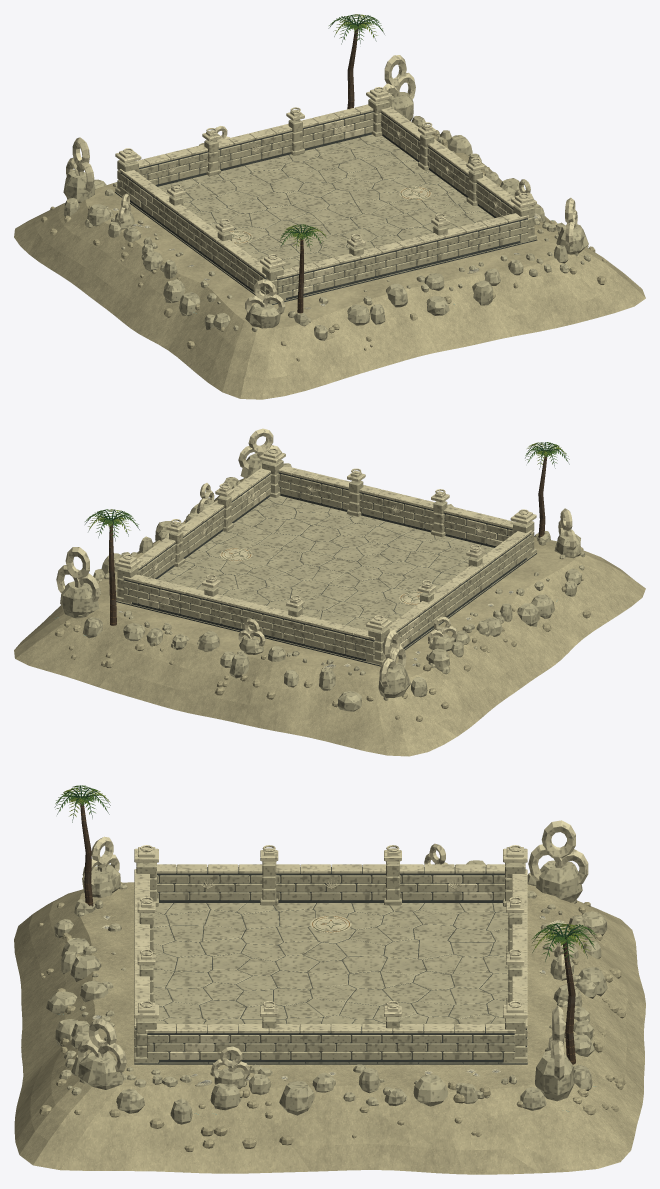
File: realm_06.fbx
3 renders of one model, top to bottom at view 1: azimuth 30°, elevation 25°; view 2: azimuth 150°, elevation 25°; view 3: azimuth 270°, elevation 25°, orthographic. The views are drawn at different scales.
Visible parts, largest first — view 1: realm_06__shore, realm_06__closed_walls, realm_06__combat_floor, realm_06__biome_dressing; view 2: realm_06__shore, realm_06__closed_walls, realm_06__combat_floor, realm_06__biome_dressing; view 3: realm_06__shore, realm_06__combat_floor, realm_06__closed_walls, realm_06__biome_dressing.
Boxes of the visible parts, x1,y1,x2,y2 form: realm_06__shore: (14, 116, 645, 399); realm_06__closed_walls: (115, 87, 536, 303); realm_06__combat_floor: (115, 134, 537, 304); realm_06__biome_dressing: (63, 14, 588, 333); realm_06__shore: (14, 463, 645, 756); realm_06__closed_walls: (115, 448, 536, 664); realm_06__combat_floor: (116, 495, 536, 666); realm_06__biome_dressing: (56, 428, 583, 701); realm_06__shore: (14, 860, 645, 1174); realm_06__combat_floor: (134, 903, 527, 1064); realm_06__closed_walls: (134, 845, 527, 1062); realm_06__biome_dressing: (54, 785, 603, 1118).
Size of the model in its own units: 112796 by 112456 by 37133.
